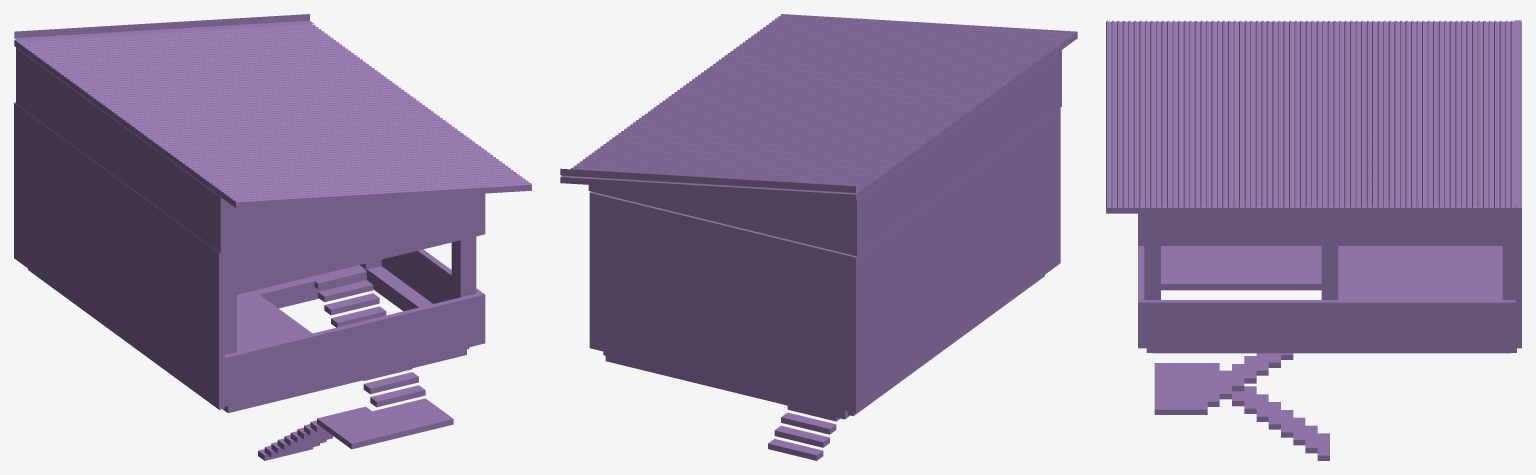
File: kantor2.glb
3 renders of one model, left to right at view 1: azimuth 30°, elevation 25°; view 2: azimuth 150°, elevation 25°; view 3: azimuth 270°, elevation 25°, orthographic. The views are drawn at different scales.
Parts seen in each view (by area): view 1: kantor2; view 2: kantor2; view 3: kantor2.
Boxes of the visible parts, bbox=[...] form: kantor2: bbox=[14, 14, 531, 460]; kantor2: bbox=[560, 14, 1077, 460]; kantor2: bbox=[1106, 20, 1521, 460].
Size of the model in its own units: 6.67 by 8.28 by 8.66.
